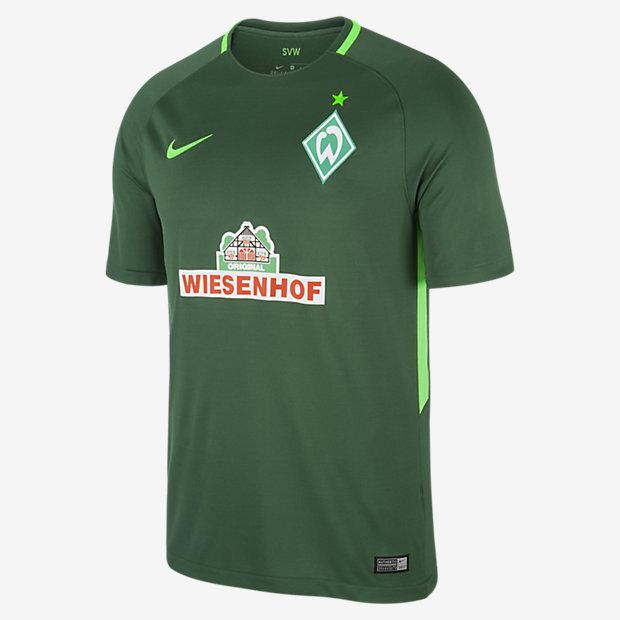teeshirt: (97, 3, 536, 613)
